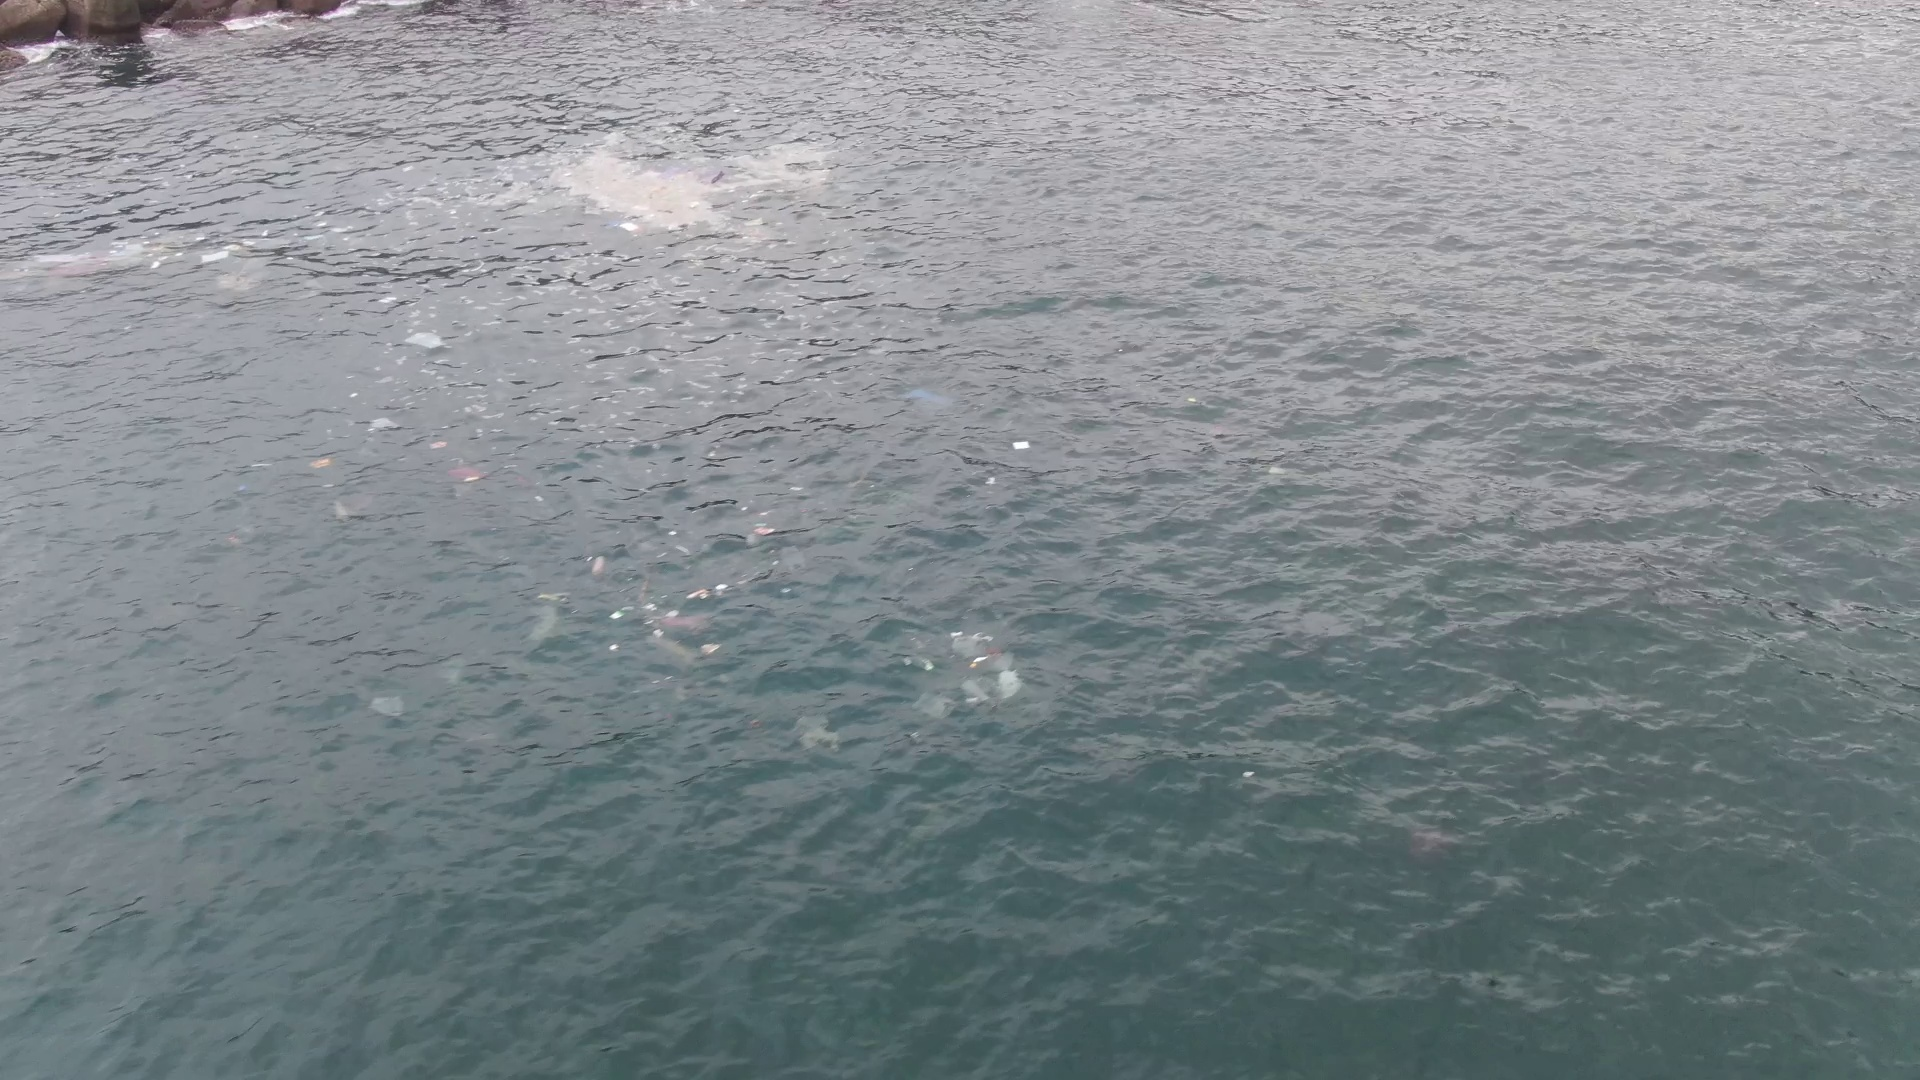garbage: (555, 144, 729, 237), (585, 560, 727, 667), (909, 626, 1025, 727), (12, 237, 264, 281), (534, 587, 560, 647), (789, 715, 837, 746), (452, 451, 484, 492), (910, 385, 957, 409), (367, 694, 409, 720), (405, 332, 444, 351), (309, 454, 332, 472), (373, 415, 398, 433)
